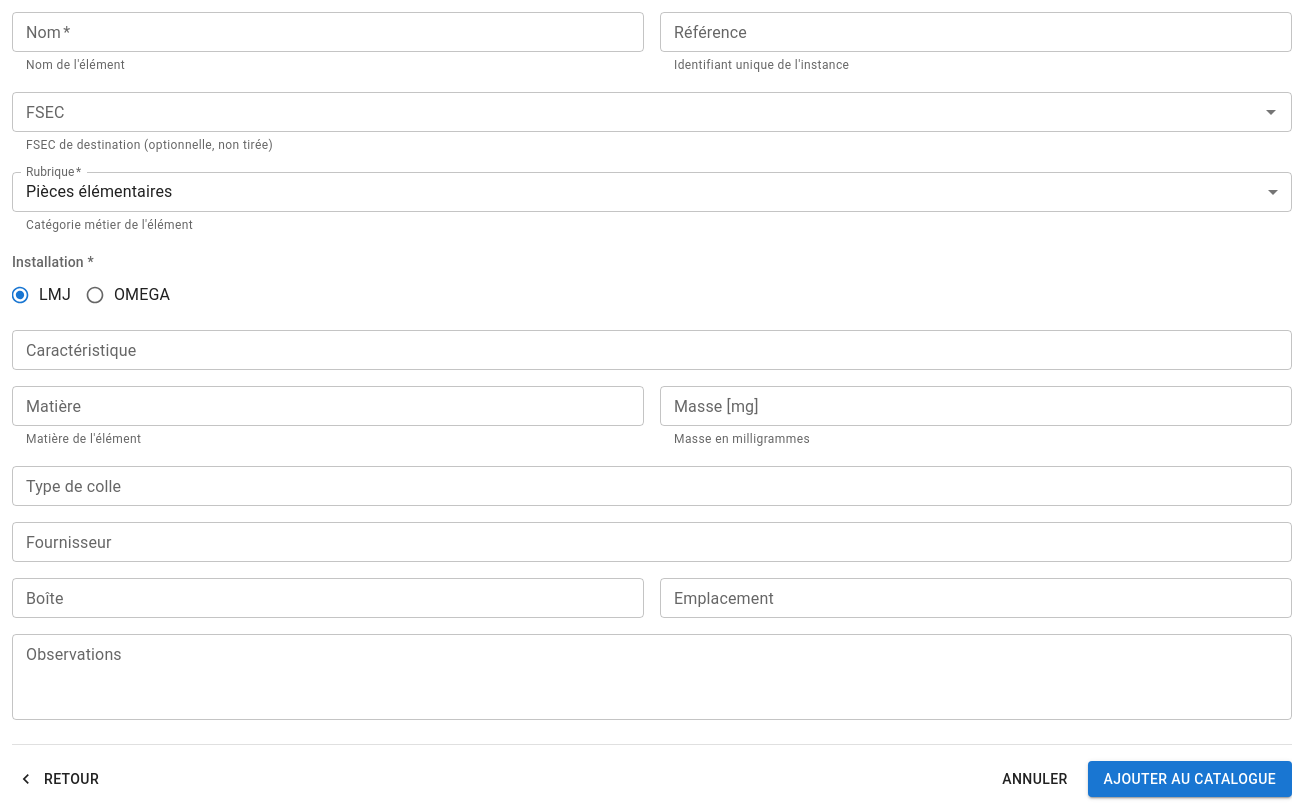
Test: ElementFormShell › mode paquet structuration › affiche l'aperçu de la plage de numéros en mode paquet
The width and height of the screenshot is (1304, 812).
Click the dropdown named "rubrique".
click(99, 192)  # box [26,182,172,201]
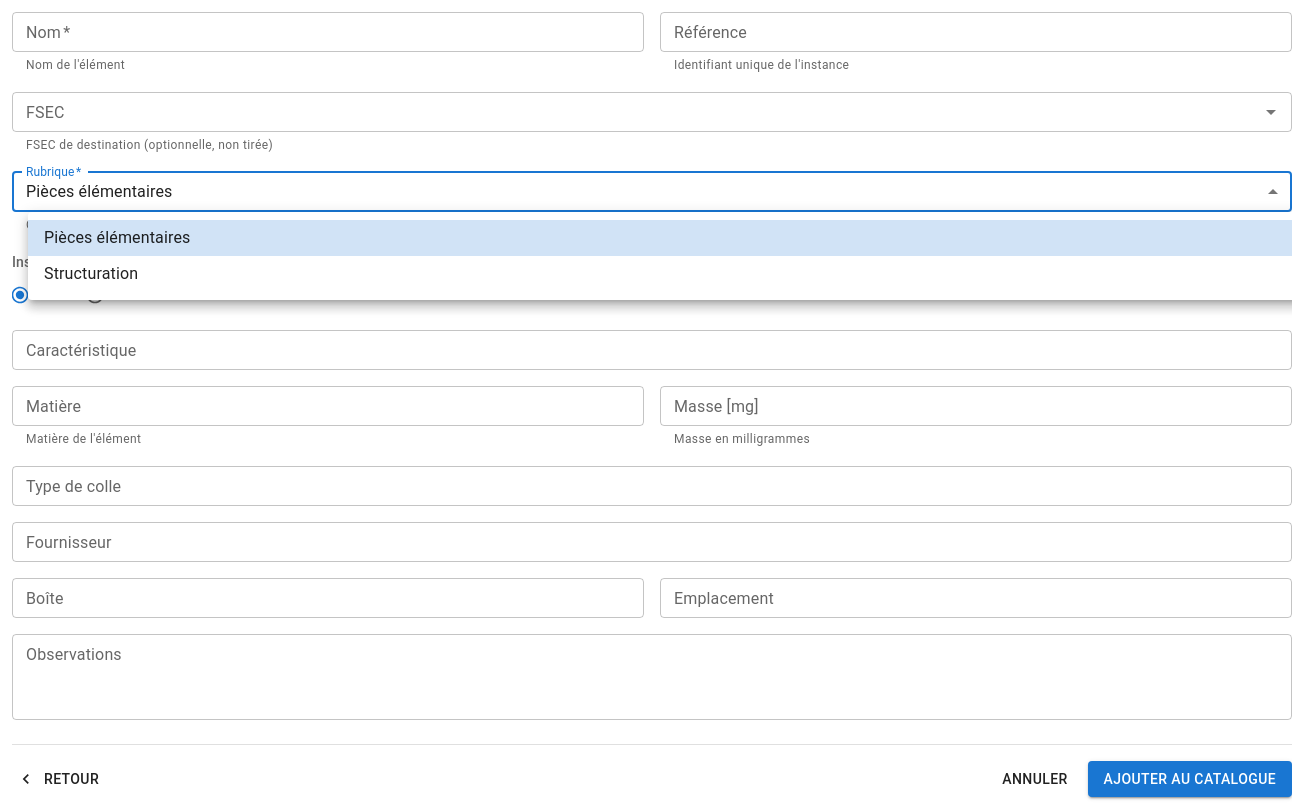
Click the option "Structuration".
click(91, 274)  # box [44,264,138,283]
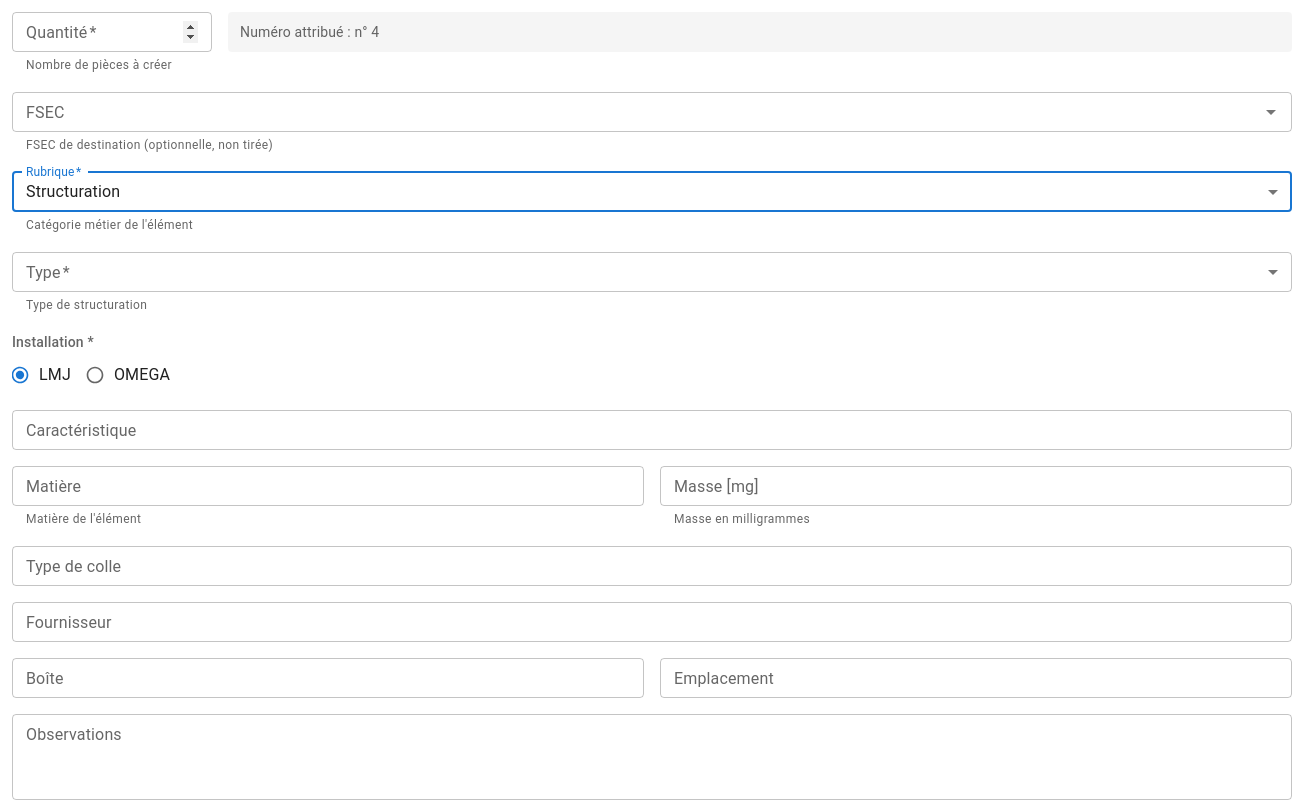
Type "5" into the number field labelled "Quantité *".
click(112, 32); type("5")  # box [12,12,212,52]
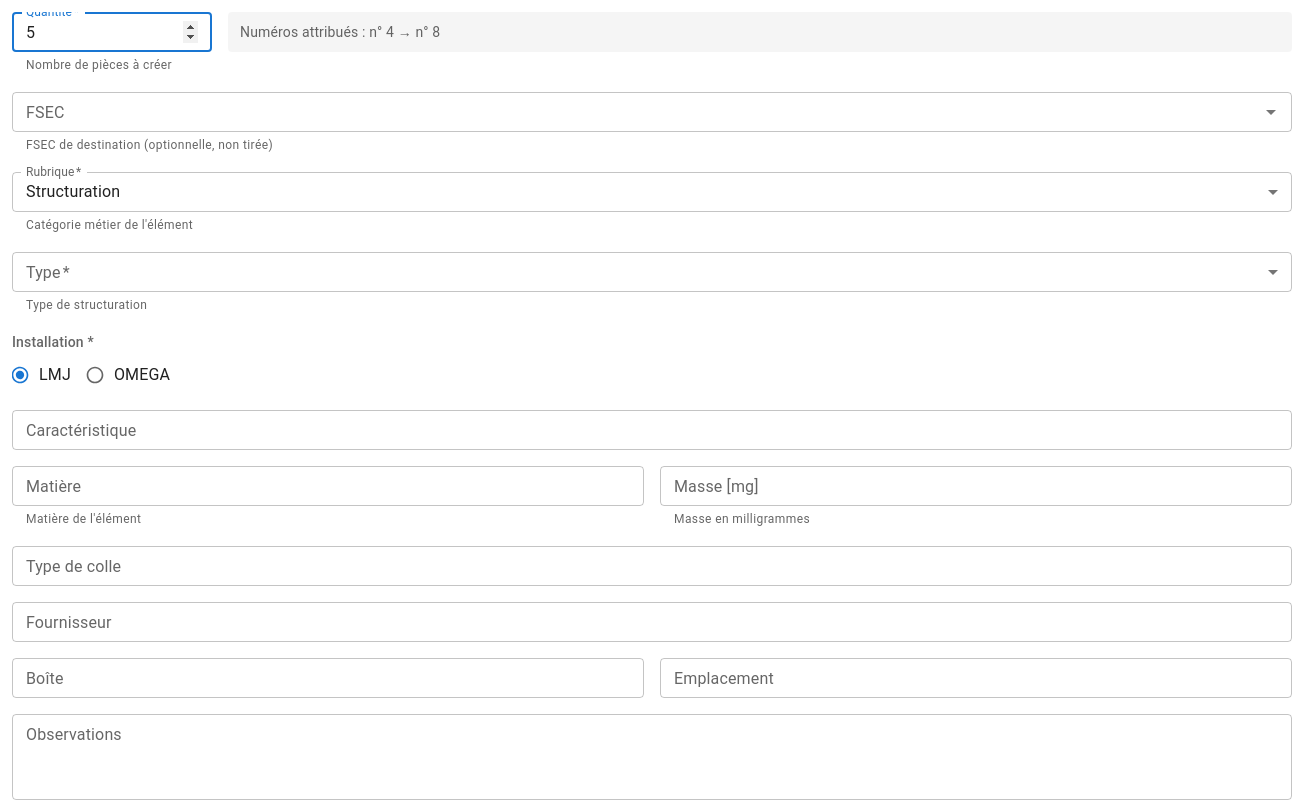
Check: the text "Numéros attribués : n° 4 → n° 8" is shown, box [240,22,440,42]
